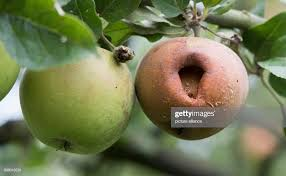apple: (27, 42, 127, 151)
damaged_apple: (142, 39, 255, 142)
